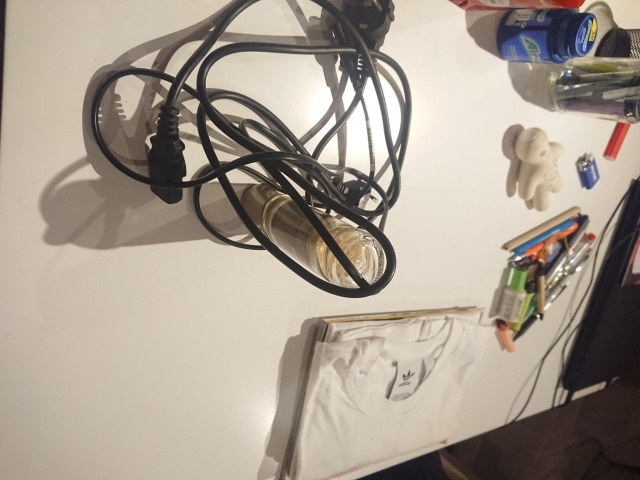Kotanyi Garlic Granules 70g: (237, 180, 388, 294)
